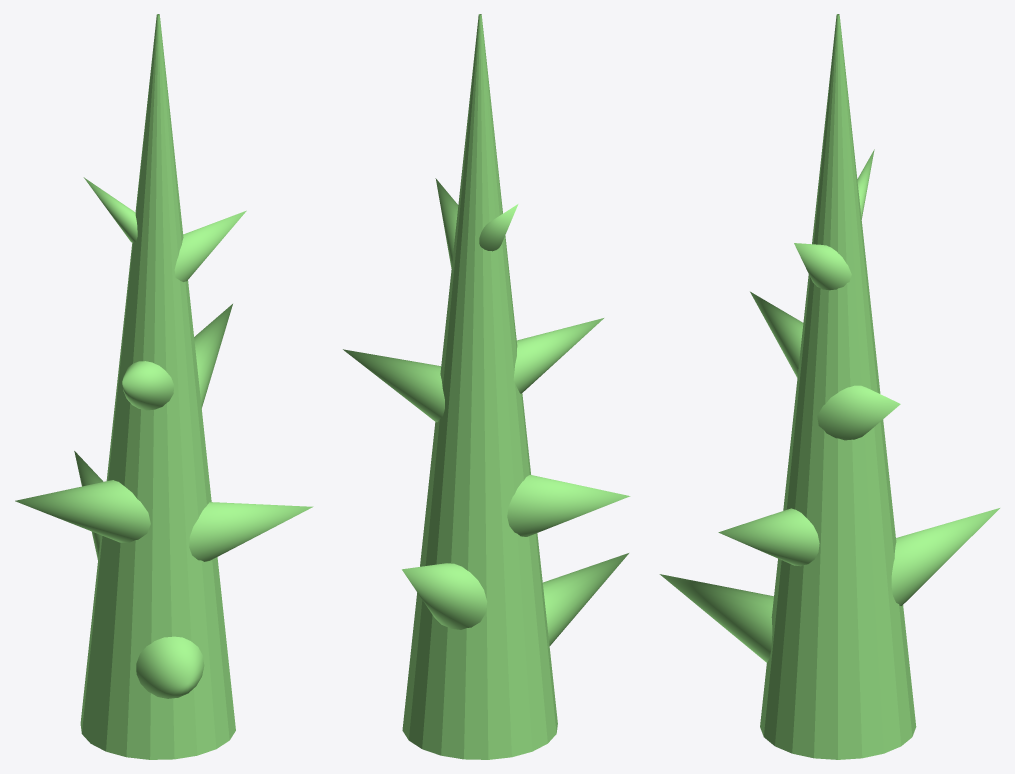
The model's file is SpinyVine.fbx.
The picture shows the model from 3 angles, left to right: view 1: azimuth 30°, elevation 25°; view 2: azimuth 150°, elevation 25°; view 3: azimuth 270°, elevation 25°; orthographic projection.
Parts seen in each view (by area): view 1: pCone16; view 2: pCone16; view 3: pCone16.
Part boxes in pixels (bbox=[...]): pCone16: bbox=[15, 14, 313, 759]; pCone16: bbox=[343, 14, 630, 759]; pCone16: bbox=[659, 14, 999, 759].
Size of the model in its own units: 0.3653 by 0.9805 by 0.4262.
